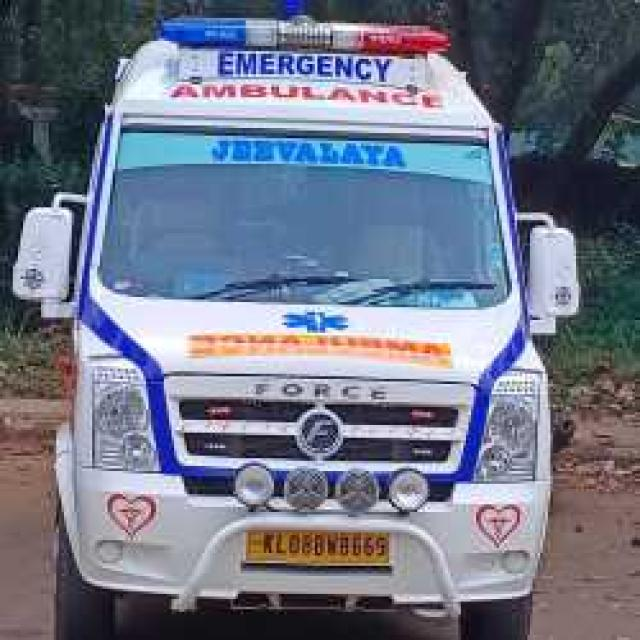emergency: (14, 10, 578, 640)
